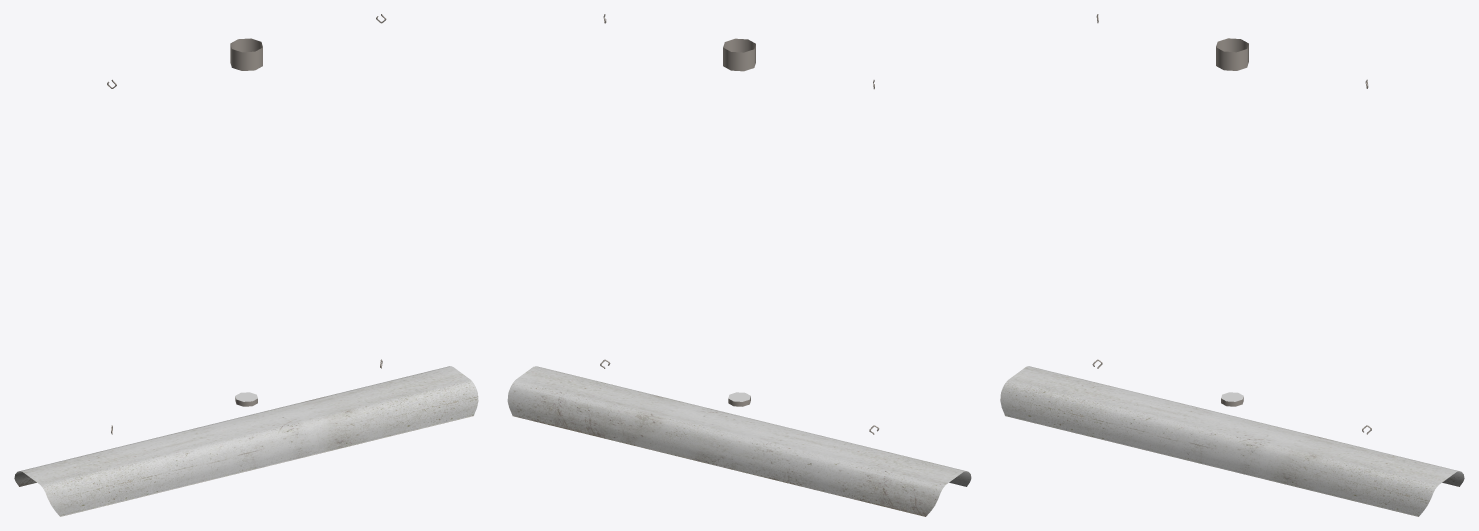
The model's file is sm35_002_offceilinglight.fbx.
3 renders of one model, left to right at view 1: azimuth 30°, elevation 25°; view 2: azimuth 150°, elevation 25°; view 3: azimuth 330°, elevation 25°, orthographic.
Visible parts, largest first — view 1: LOD_1_Group_0_Sub_1__sm35_002_OffCeilingLight01A_A_Mat; view 2: LOD_1_Group_0_Sub_1__sm35_002_OffCeilingLight01A_A_Mat; view 3: LOD_1_Group_0_Sub_1__sm35_002_OffCeilingLight01A_A_Mat.
Part boxes in pixels (x1,y1,x2,y2): LOD_1_Group_0_Sub_1__sm35_002_OffCeilingLight01A_A_Mat: (14, 14, 478, 516); LOD_1_Group_0_Sub_1__sm35_002_OffCeilingLight01A_A_Mat: (507, 14, 971, 516); LOD_1_Group_0_Sub_1__sm35_002_OffCeilingLight01A_A_Mat: (1000, 14, 1464, 516).
Bounding box in the file's own units: 1.2 × 1.08 × 0.1996.
